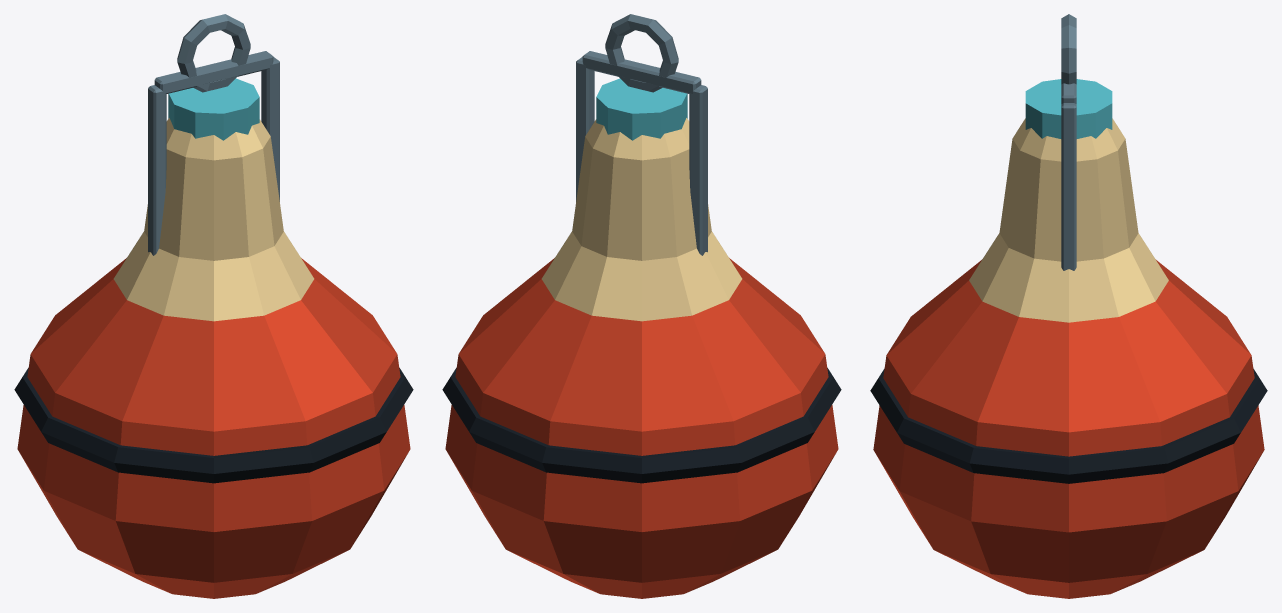
File: EM_MarkerBuoy.fbx
3 views of the same model, side by side, from view 1: azimuth 30°, elevation 25°; view 2: azimuth 150°, elevation 25°; view 3: azimuth 270°, elevation 25° (orthographic).
Visible parts, largest first — view 1: EM_MarkerBuoy; view 2: EM_MarkerBuoy; view 3: EM_MarkerBuoy.
Part boxes in pixels (box(x1,y1,x2,y2)): EM_MarkerBuoy: box(14, 14, 413, 598); EM_MarkerBuoy: box(442, 14, 841, 598); EM_MarkerBuoy: box(870, 14, 1267, 598).
Size of the model in its own units: 0.914 by 1.38 by 0.914.
